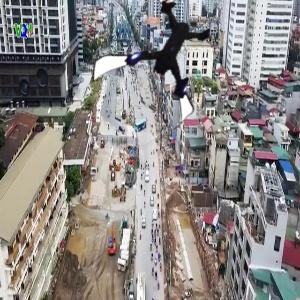drone: (104, 1, 228, 125)
